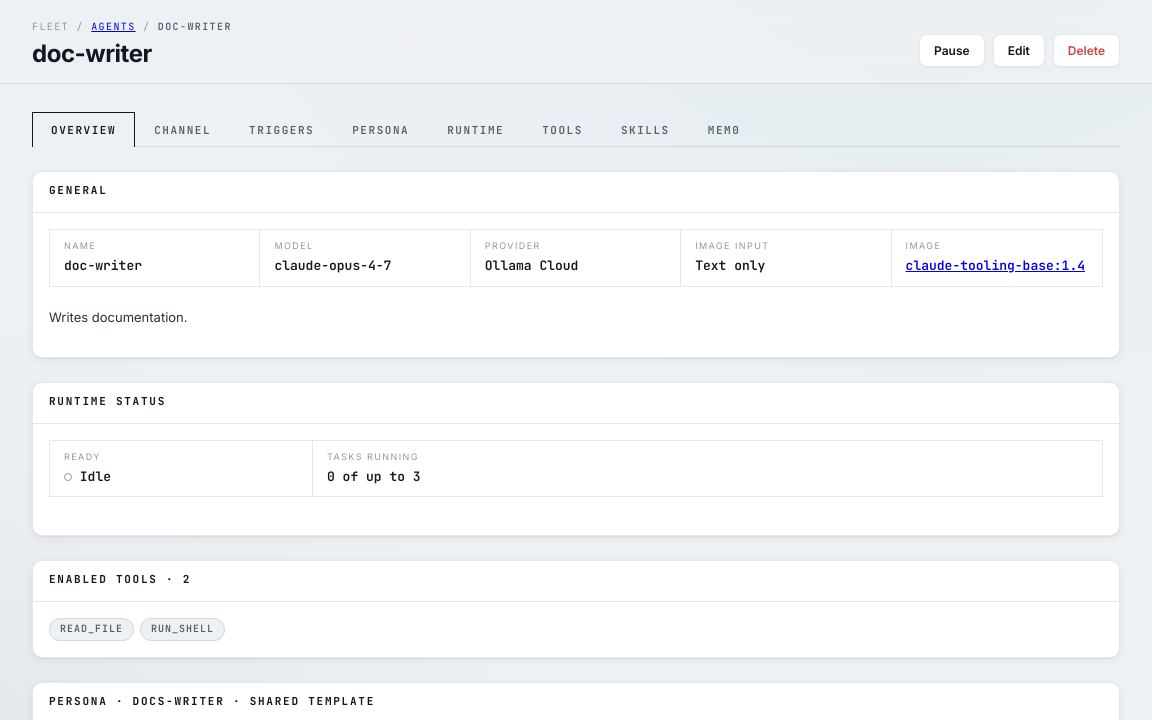
it: AgentDetail › shows the Channel tab with the agent inbox summary
The width and height of the screenshot is (1152, 720).
Expected: the text "claude-opus-4-7" is shown, [274, 257, 391, 274]
What coordinates should you click on to do the following:
click the tab "Channel"
I would click on:
 (183, 129)
Its box is [135, 112, 230, 147].
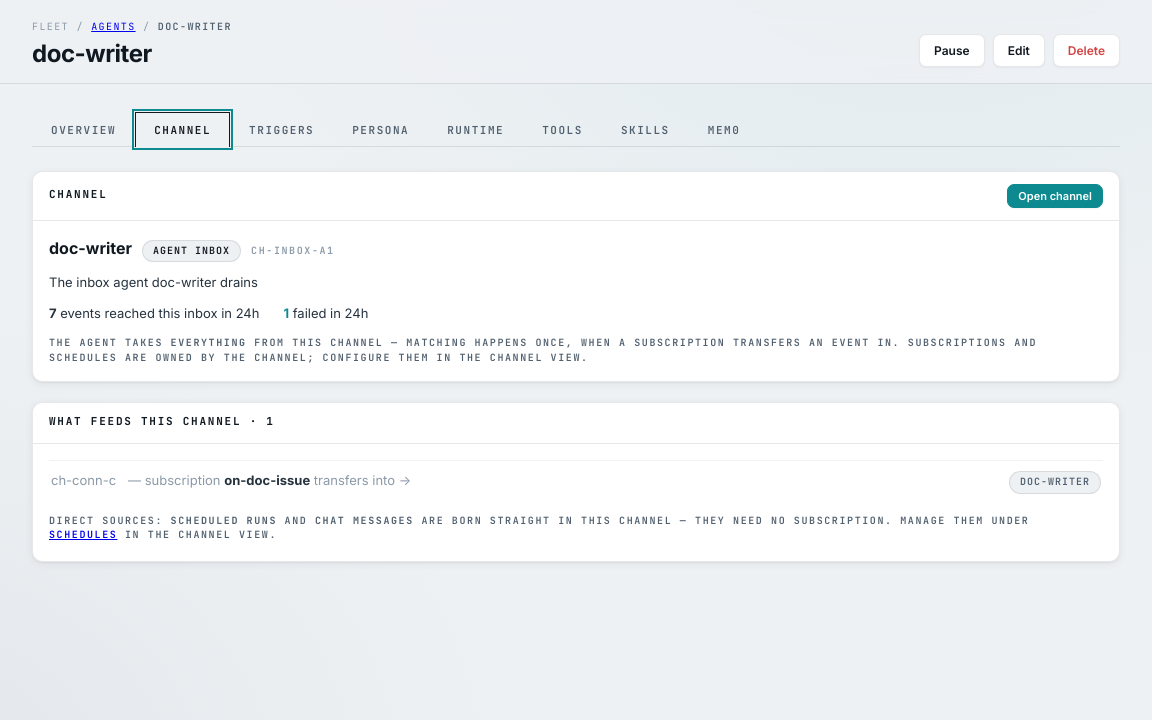
Expected: the text "agent inbox" is shown, [142, 240, 241, 262]
Expected: the text "The inbox agent doc-writer drains" is shown, [49, 275, 258, 291]
